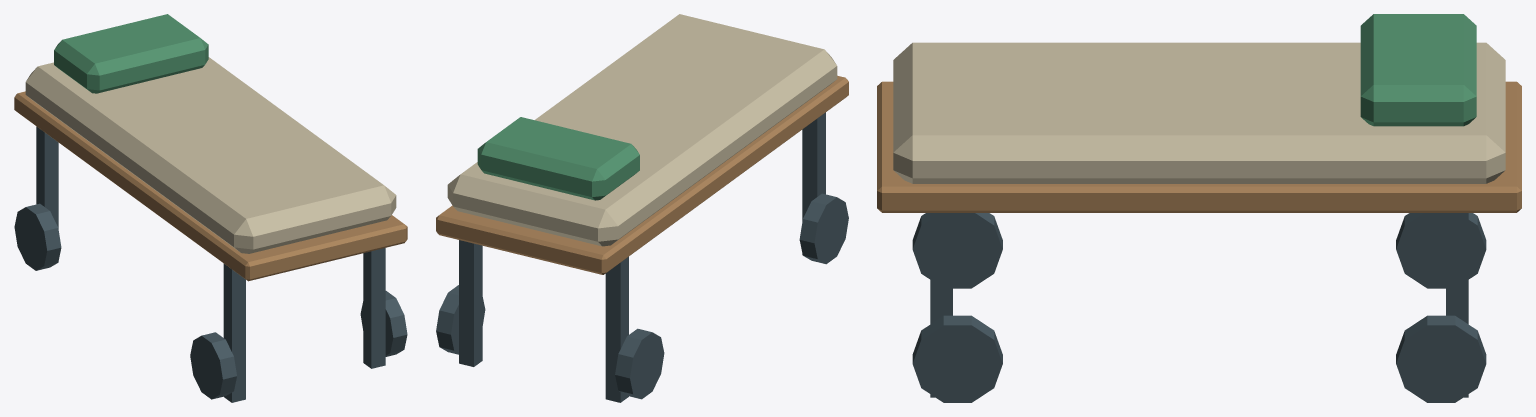
Rendered from stretcher.glb.
The picture shows the model from 3 angles, left to right: view 1: azimuth 30°, elevation 25°; view 2: azimuth 150°, elevation 25°; view 3: azimuth 270°, elevation 25°; orthographic projection. The views are drawn at different scales.
Visible parts, largest first — view 1: stretcher; view 2: stretcher; view 3: stretcher.
Part boxes in pixels (left/top/right/bottom): stretcher: left=14, top=14, right=407, bottom=402; stretcher: left=436, top=14, right=848, bottom=402; stretcher: left=877, top=14, right=1521, bottom=402.
Size of the model in its own units: 0.91 by 1.02 by 2.
